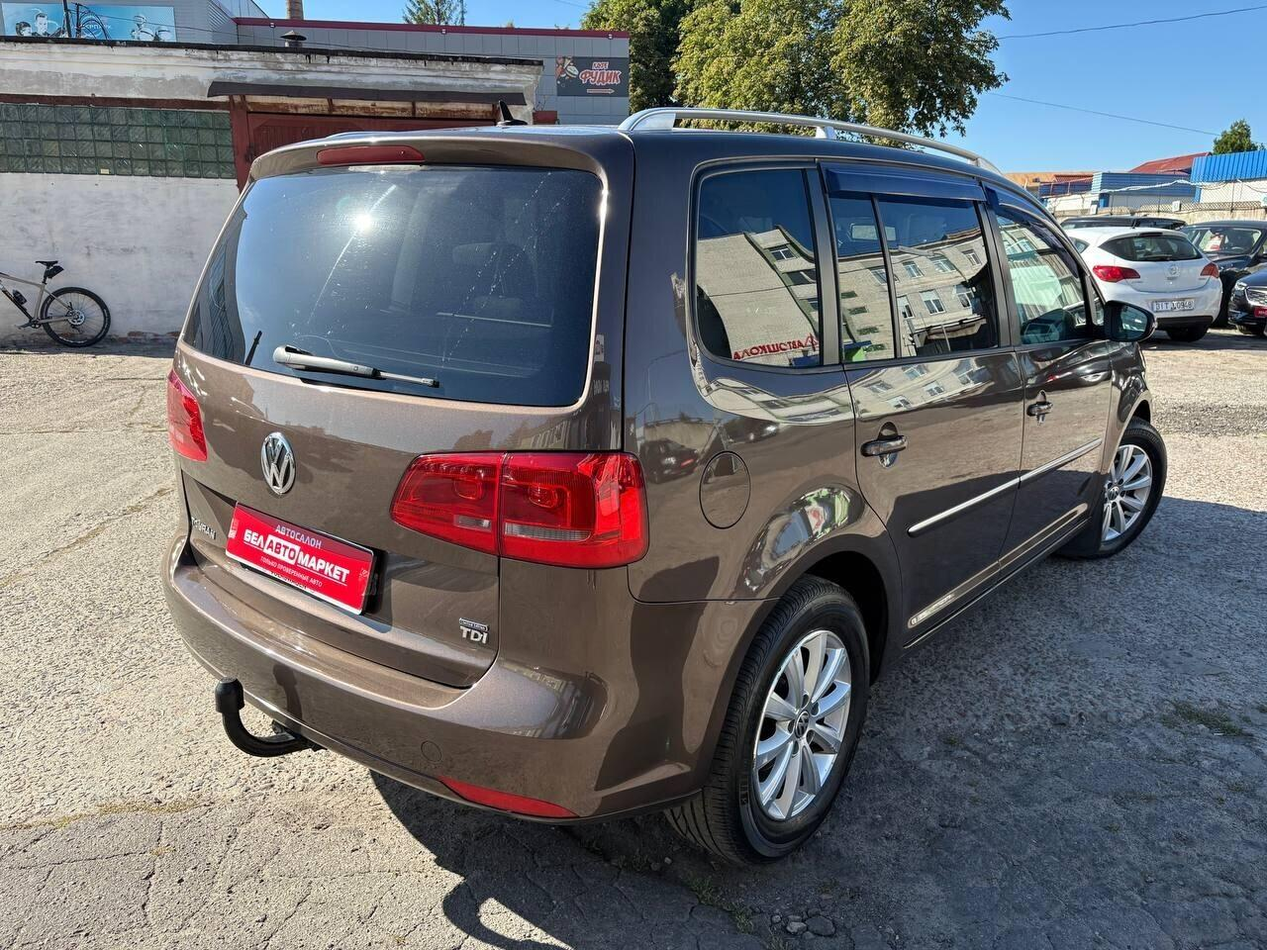Touran_2010-2015: (156, 120, 1166, 865)
